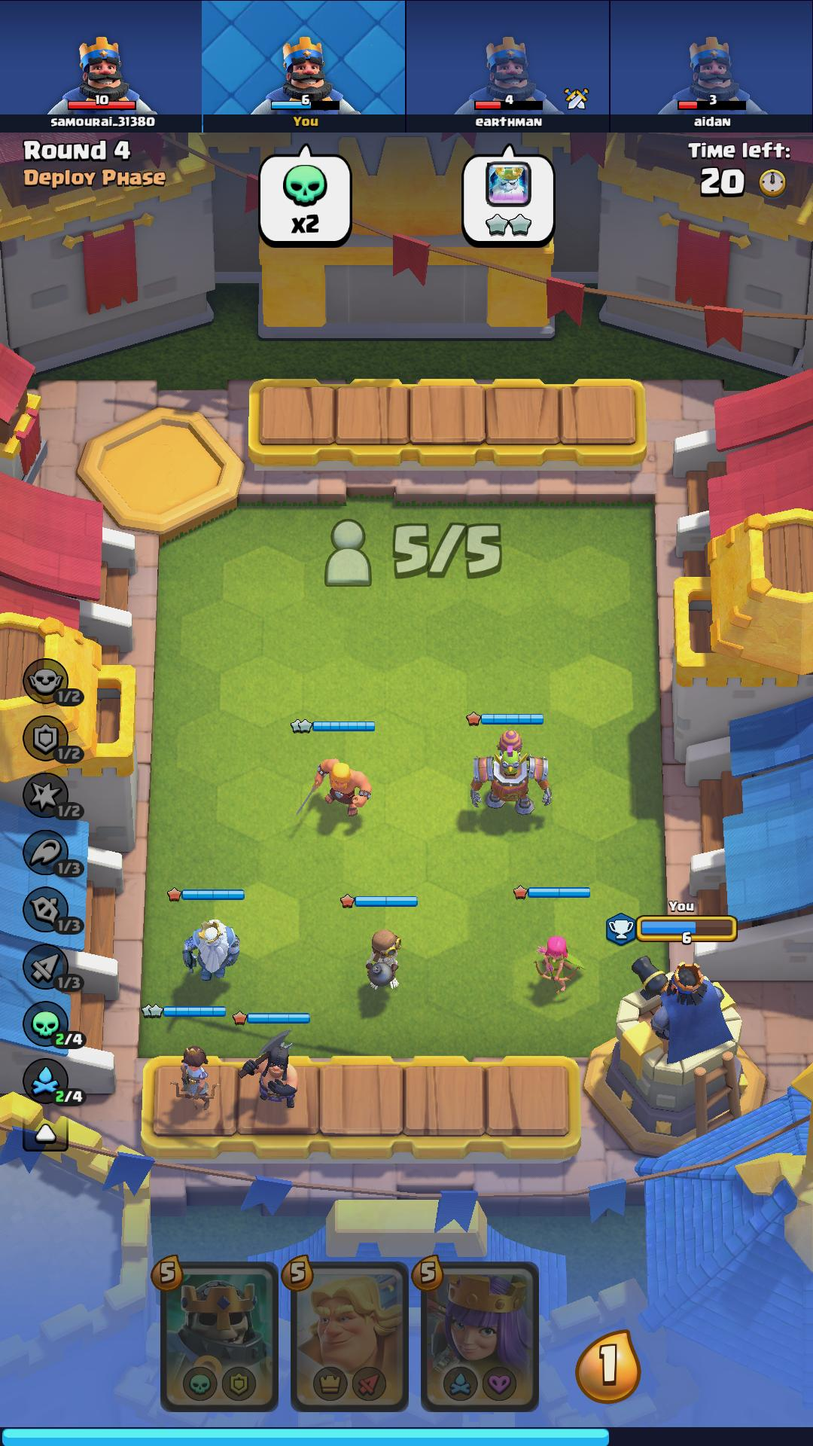archer: (528, 925, 590, 997)
barbarian: (302, 747, 376, 826)
bomber: (358, 918, 409, 992)
executioner: (241, 1024, 306, 1115)
ghost: (176, 908, 252, 985)
hand-golden: (289, 1264, 410, 1408)
hand-king: (159, 1264, 277, 1411)
hand-queen: (428, 1265, 538, 1411)
machine: (460, 727, 563, 828)
princess: (158, 1036, 230, 1113)
